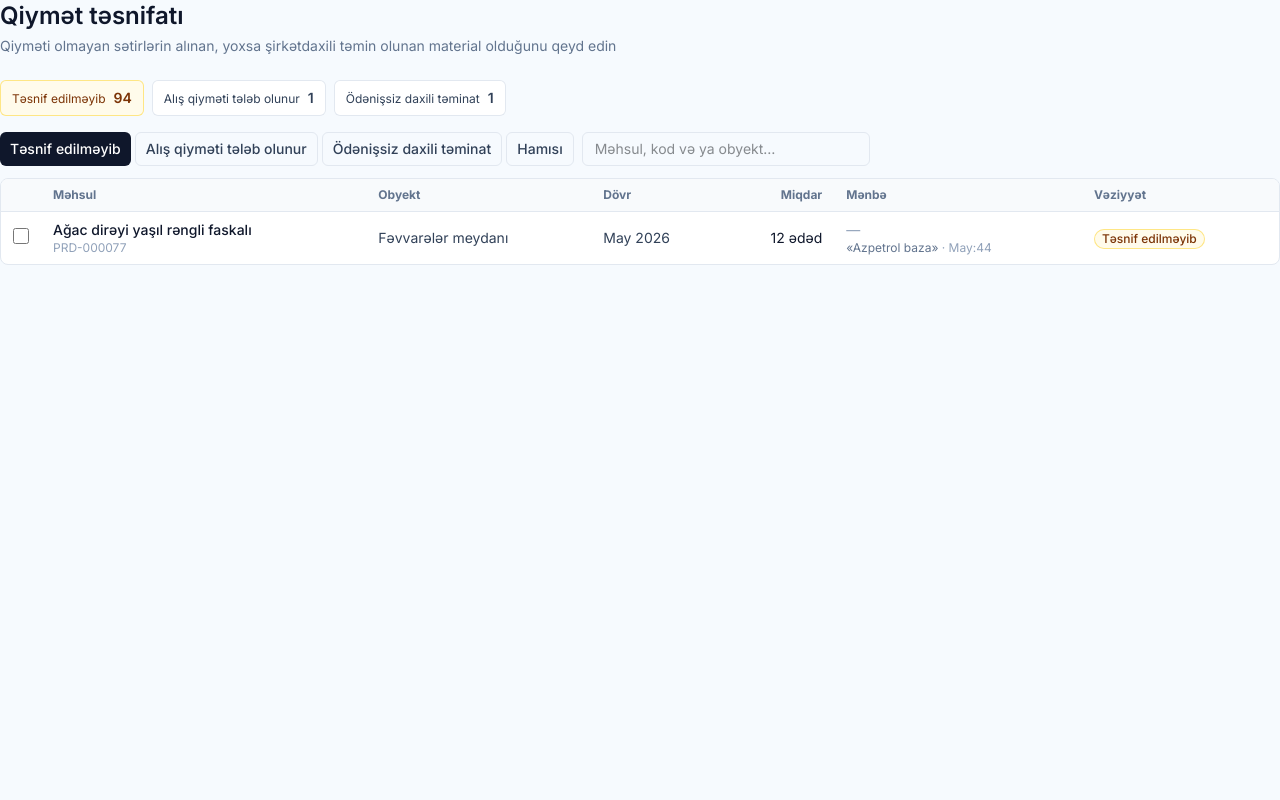
deciding › shows the server s refusal rather than pretending it worked
Step 1. Click the checkbox named "Ağac dirəyi" → (21, 236), box 13,228 -> 29,244
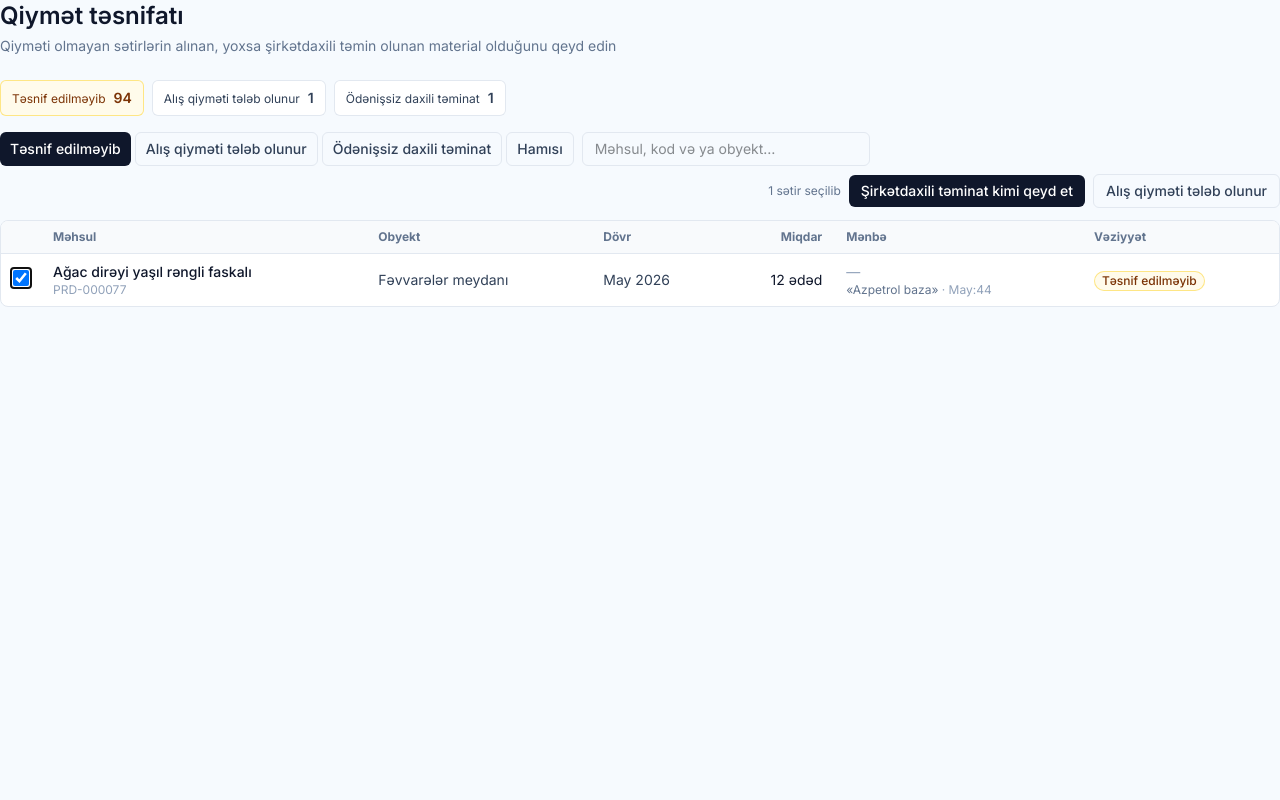
Step 2. Click the button "Şirkətdaxili təminat kimi qeyd et" → (967, 191), box 849,175 -> 1085,207
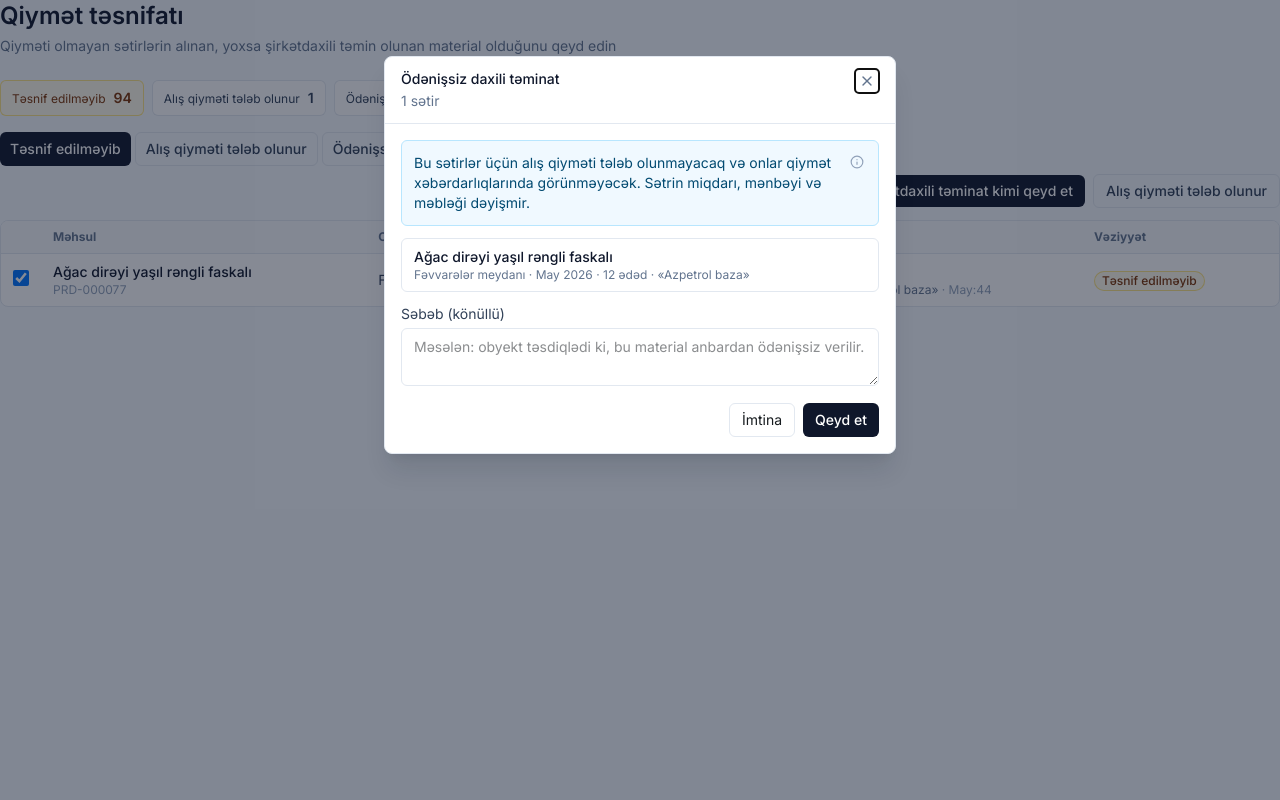
Step 3. Click the button "Qeyd et" → (841, 420), box 803,403 -> 879,437
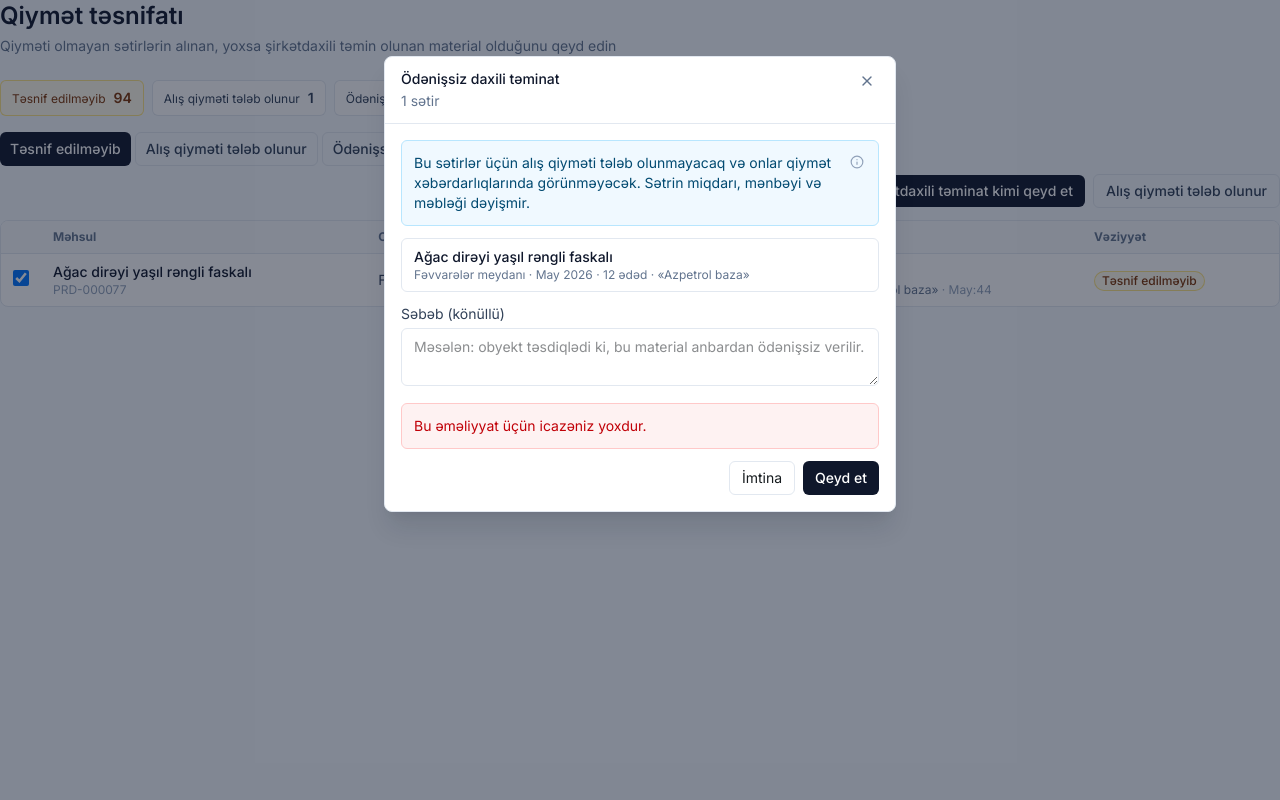
Expected: the text "Bu əməliyyat üçün icazəniz yoxdur." is shown, 401,403 -> 879,449
